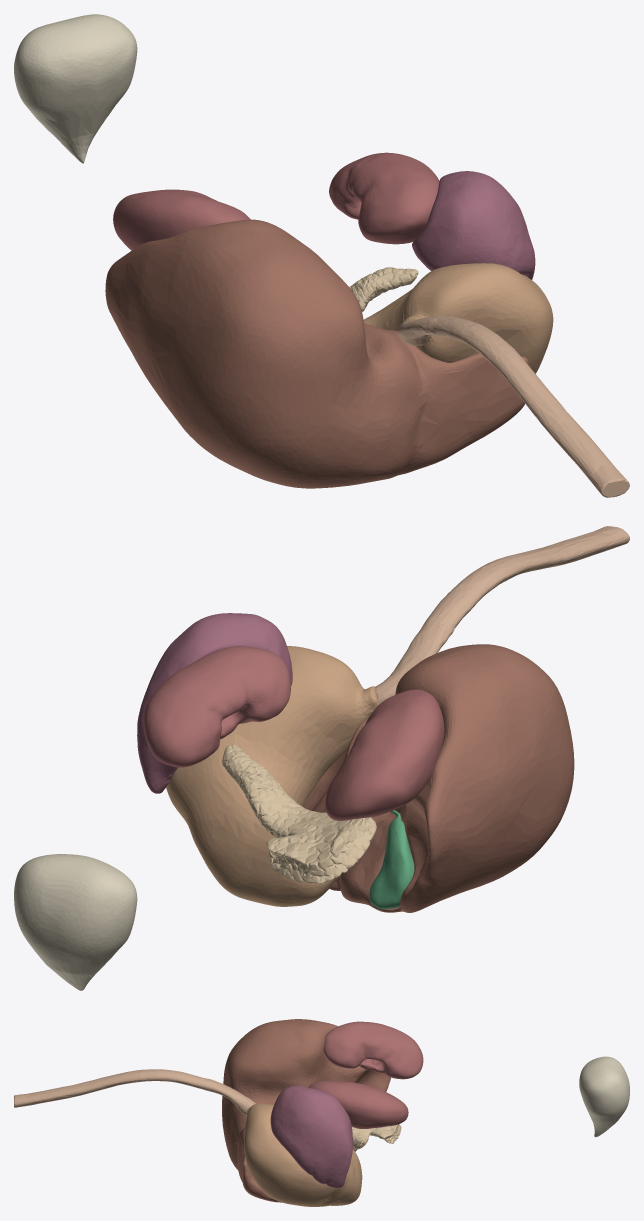
The model's file is abdomen.glb.
The picture shows the model from 3 angles, top to bottom: view 1: azimuth 30°, elevation 25°; view 2: azimuth 150°, elevation 25°; view 3: azimuth 270°, elevation 25°; orthographic projection. The views are drawn at different scales.
Visible parts, largest first — view 1: liver, bladder, stomach, spleen, esophagus, kidney-l, kidney-r, pancreas; view 2: liver, stomach, bladder, kidney-l, kidney-r, pancreas, esophagus, spleen, gallbladder; view 3: liver, spleen, stomach, kidney-r, esophagus, bladder, kidney-l, pancreas.
Part boxes in pixels (<box>): liver: <box>105,219,529,488</box>; bladder: <box>14,14,137,163</box>; stomach: <box>363,263,553,373</box>; spleen: <box>412,171,535,279</box>; esophagus: <box>398,315,629,497</box>; kidney-l: <box>329,152,439,244</box>; kidney-r: <box>113,189,250,250</box>; pancreas: <box>349,267,418,311</box>; liver: <box>303,644,574,912</box>; stomach: <box>166,646,378,906</box>; bladder: <box>14,854,137,990</box>; kidney-l: <box>143,646,290,767</box>; kidney-r: <box>325,689,444,820</box>; pancreas: <box>222,745,376,883</box>; esophagus: <box>375,526,629,704</box>; spleen: <box>137,613,292,793</box>; gallbladder: <box>369,810,414,908</box>; liver: <box>222,1019,390,1202</box>; spleen: <box>270,1085,352,1187</box>; stomach: <box>244,1103,362,1206</box>; kidney-r: <box>323,1021,423,1079</box>; esophagus: <box>14,1069,255,1115</box>; bladder: <box>579,1056,629,1137</box>; kidney-l: <box>308,1081,408,1128</box>; pancreas: <box>352,1124,401,1149</box>.
Bounding box in the file's own units: 0.7487 × 0.4892 × 2.
